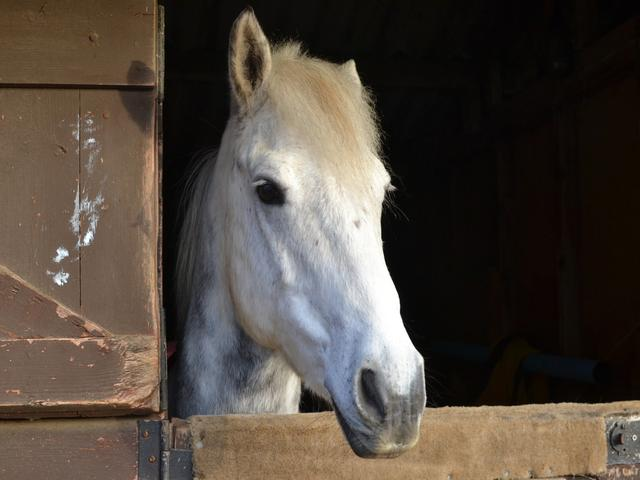horse: (182, 13, 441, 480)
